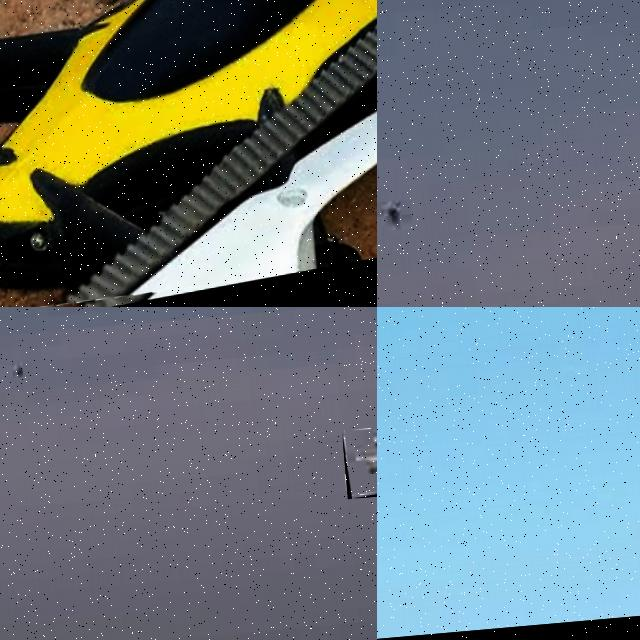drone: (0, 0, 377, 307), (341, 422, 377, 498)
